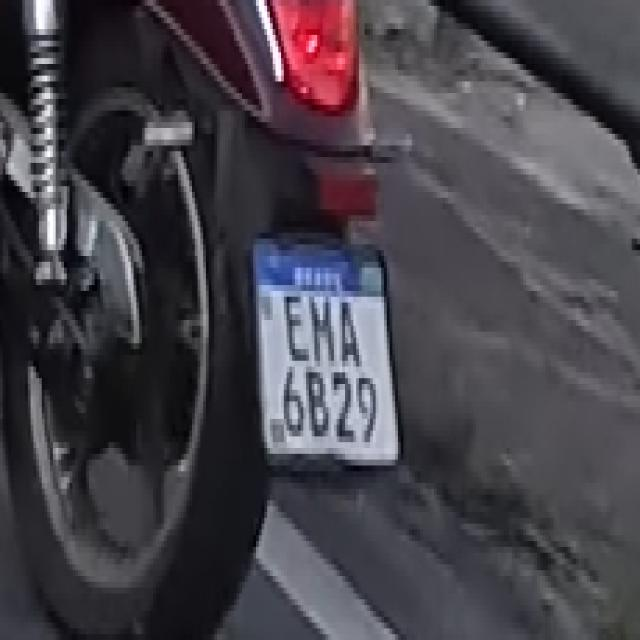placa_moto: (251, 235, 398, 463)
